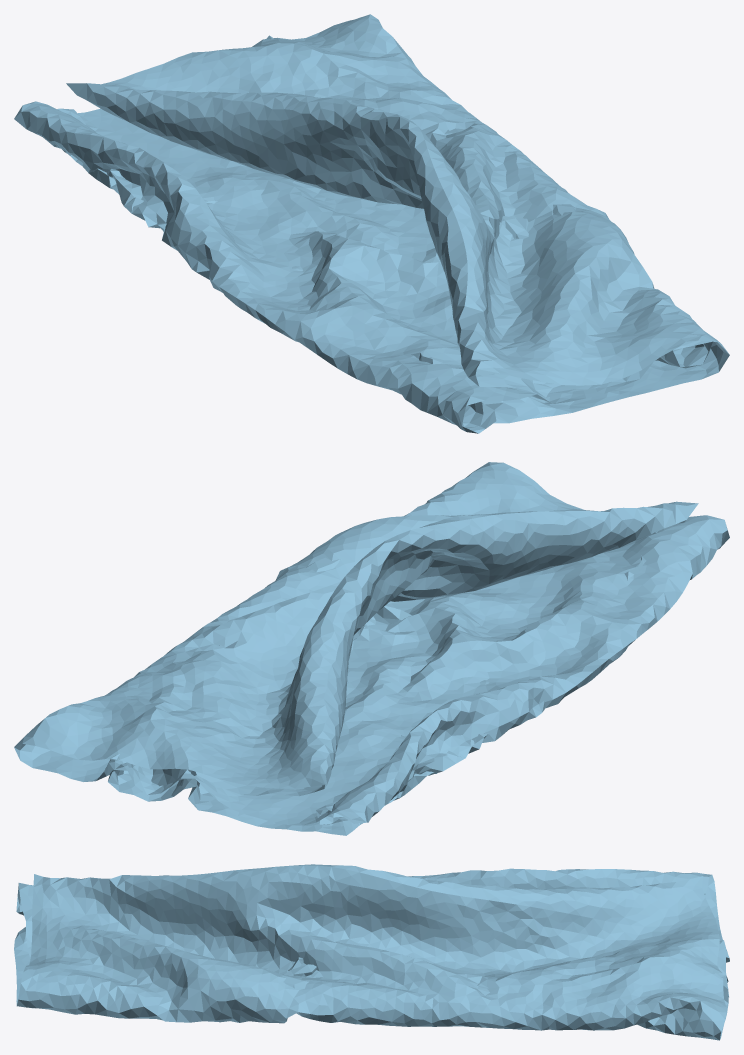
The model's file is frame_20.glb.
3 views of the same model, one above another, from view 1: azimuth 30°, elevation 25°; view 2: azimuth 150°, elevation 25°; view 3: azimuth 270°, elevation 25° (orthographic). The views are drawn at different scales.
Visible parts, largest first — view 1: frame_20.obj; view 2: frame_20.obj; view 3: frame_20.obj.
Part boxes in pixels (x1,y1,x2,y2): frame_20.obj: [14, 14, 729, 433]; frame_20.obj: [14, 462, 729, 835]; frame_20.obj: [14, 864, 729, 1040].
Size of the model in its own units: 0.8145 by 0.2636 by 1.6.
